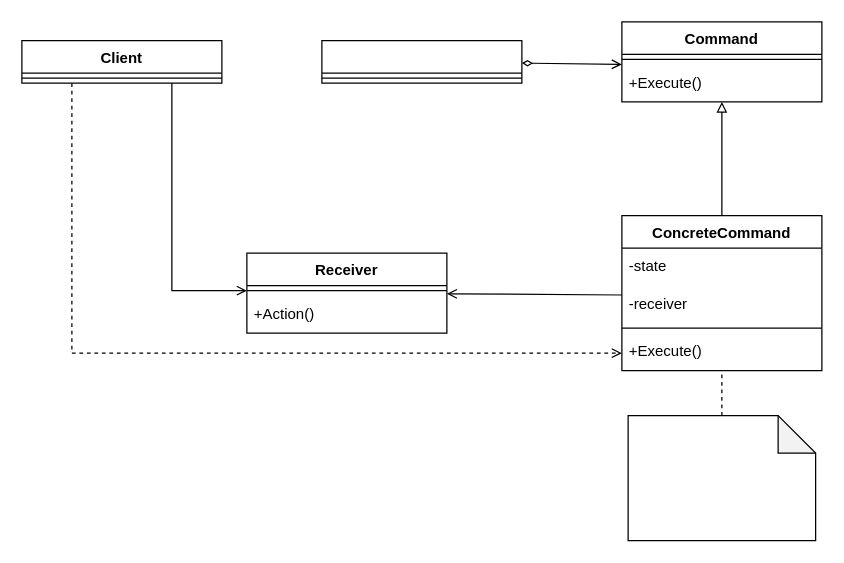
Image size: 844x563. Some labels were removed from this diagram. The centre of each missing label's shape, as x and y in pixels:
function Execute(){ receiver.Action(); }: the point at 721,477
Invoker: the point at 421,61
